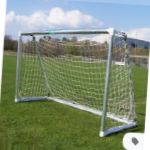goals: (14, 26, 139, 136)
